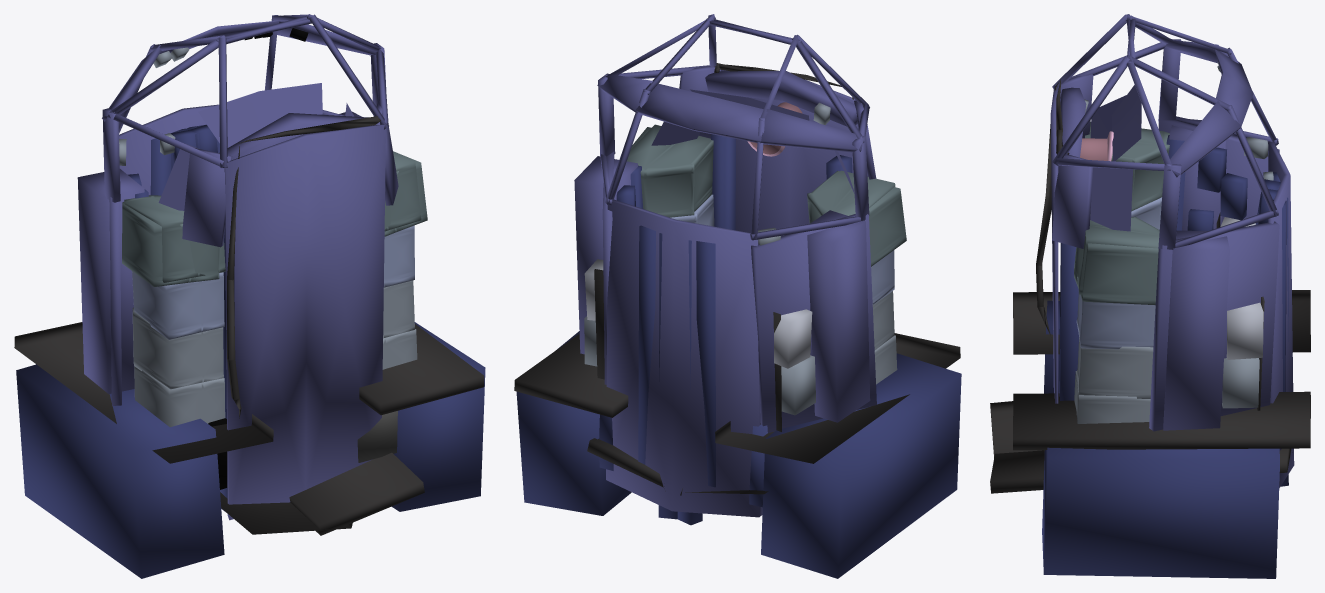
File: spaceship.fbx
3 renders of one model, left to right at view 1: azimuth 30°, elevation 25°; view 2: azimuth 150°, elevation 25°; view 3: azimuth 270°, elevation 25°, orthographic. The views are drawn at different scales.
Parts seen in each view (by area): view 1: p.0216_Mirrored, p.0228_Mirrored, p.0229, s.0252_Mirrored, s.0249_Mirrored, s.0205_Mirrored, p.0253, p.0255; view 2: p.0216_Mirrored, p.0228_Mirrored, p.0229, s.0249_Mirrored, s.0252_Mirrored, p.0215_Mirrored, s.0205_Mirrored; view 3: p.0216_Mirrored, p.0228_Mirrored, p.0229, s.0249_Mirrored, s.0252_Mirrored, s.0205_Mirrored, p.0215_Mirrored, p.0262.
Part boxes in pixels (bbox=[...]): p.0216_Mirrored: bbox=[77, 14, 398, 520]; p.0228_Mirrored: bbox=[16, 124, 485, 578]; p.0229: bbox=[14, 116, 484, 535]; s.0252_Mirrored: bbox=[119, 47, 417, 427]; s.0249_Mirrored: bbox=[122, 151, 427, 286]; s.0205_Mirrored: bbox=[132, 225, 414, 339]; p.0253: bbox=[357, 411, 397, 462]; p.0255: bbox=[208, 28, 308, 489]; p.0216_Mirrored: bbox=[574, 14, 876, 517]; p.0228_Mirrored: bbox=[516, 134, 961, 578]; p.0229: bbox=[514, 63, 960, 495]; s.0249_Mirrored: bbox=[627, 124, 906, 266]; s.0252_Mirrored: bbox=[584, 102, 897, 415]; p.0215_Mirrored: bbox=[584, 259, 812, 368]; s.0205_Mirrored: bbox=[670, 194, 894, 304]; p.0216_Mirrored: bbox=[1050, 14, 1294, 487]; p.0228_Mirrored: bbox=[1042, 135, 1288, 578]; p.0229: bbox=[990, 79, 1310, 493]; s.0249_Mirrored: bbox=[1074, 121, 1169, 305]; s.0252_Mirrored: bbox=[1074, 62, 1273, 423]; s.0205_Mirrored: bbox=[1076, 197, 1161, 349]; p.0215_Mirrored: bbox=[1220, 217, 1263, 359]; p.0262: bbox=[1080, 138, 1112, 160].
Size of the model in its own units: 4.85 by 3.99 by 6.4.
